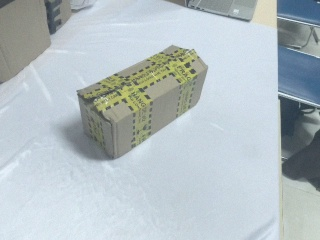box: (78, 46, 207, 157)
